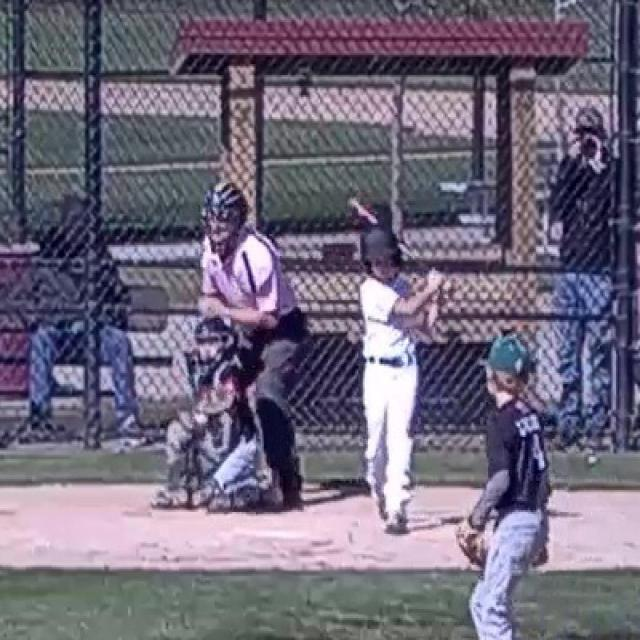baseball: (195, 414, 207, 423)
